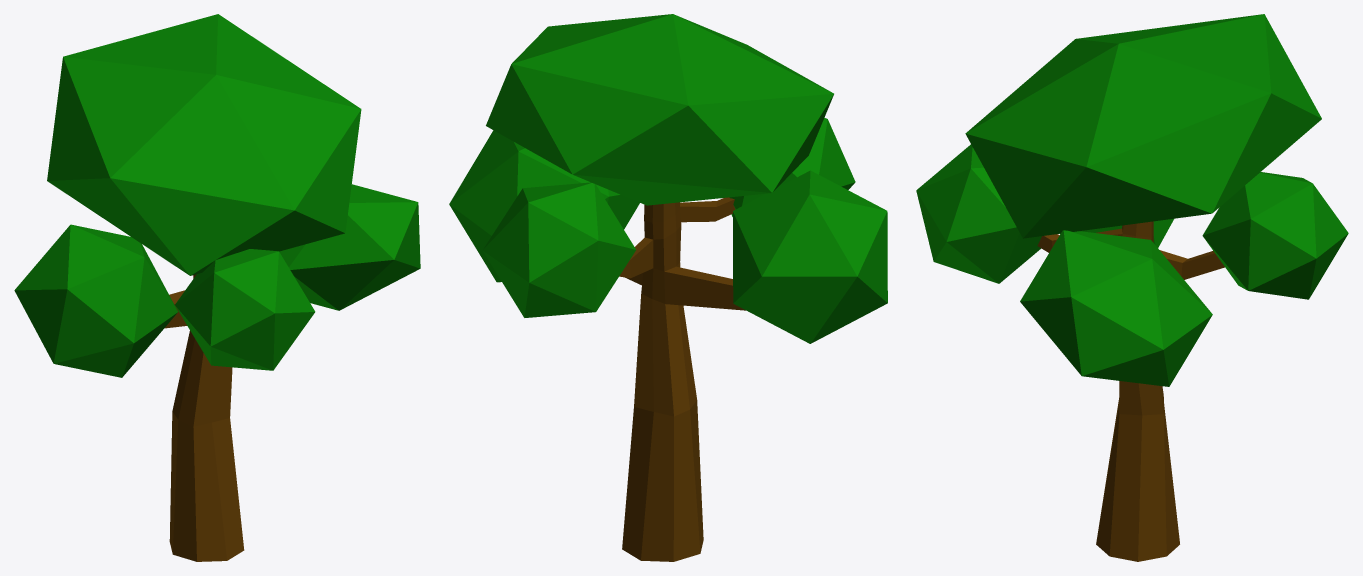
File: tree.glb
3 views of the same model, side by side, from view 1: azimuth 30°, elevation 25°; view 2: azimuth 150°, elevation 25°; view 3: azimuth 270°, elevation 25° (orthographic). The views are drawn at different scales.
Visible parts, largest first — view 1: Icosphere.005, Icosphere.002, Cube, Icosphere.004, Icosphere.003; view 2: Icosphere.005, Cube, Icosphere.002, Icosphere.001, Icosphere.003, Icosphere.004; view 3: Icosphere.005, Icosphere.003, Cube, Icosphere.001, Icosphere.004.
Part boxes in pixels (x1,y1,x2,y2): Icosphere.005: [47, 14, 361, 275]; Icosphere.002: [14, 224, 177, 377]; Cube: [165, 274, 244, 561]; Icosphere.004: [175, 249, 315, 370]; Icosphere.003: [279, 184, 420, 310]; Icosphere.005: [486, 14, 833, 205]; Cube: [619, 197, 745, 561]; Icosphere.002: [733, 170, 887, 343]; Icosphere.001: [482, 182, 635, 317]; Icosphere.003: [449, 130, 639, 282]; Icosphere.004: [729, 118, 855, 216]; Icosphere.005: [965, 14, 1321, 238]; Icosphere.003: [1020, 230, 1212, 386]; Cube: [1037, 221, 1224, 561]; Icosphere.001: [1202, 172, 1348, 299]; Icosphere.004: [916, 144, 1041, 283].
Size of the model in its own units: 6.1 by 7.49 by 5.86.
